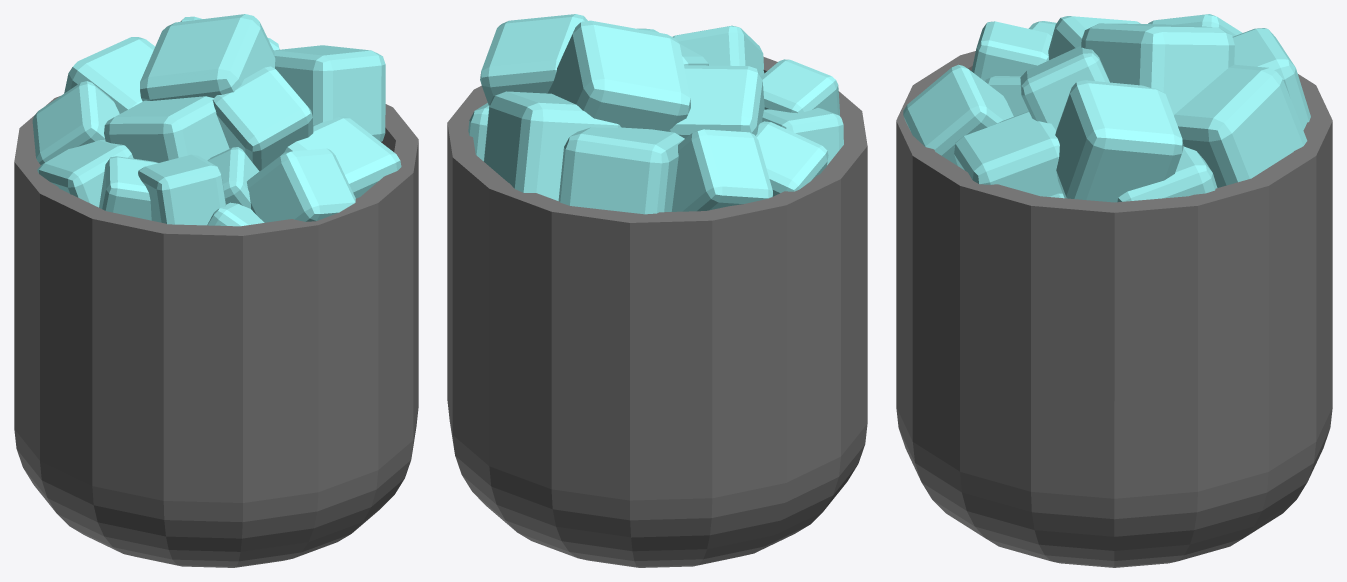
The model's file is IceCup.fbx.
The picture shows the model from 3 angles, left to right: view 1: azimuth 30°, elevation 25°; view 2: azimuth 150°, elevation 25°; view 3: azimuth 270°, elevation 25°; orthographic projection. The views are drawn at different scales.
Visible parts, largest first — view 1: iceCup, Ice; view 2: iceCup, Ice; view 3: iceCup, Ice.
Part boxes in pixels (x1,y1,x2,y2): iceCup: [14, 96, 418, 567]; Ice: [32, 14, 401, 226]; iceCup: [447, 56, 867, 567]; Ice: [468, 14, 843, 214]; iceCup: [896, 51, 1332, 567]; Ice: [903, 14, 1310, 202].
Size of the model in its own units: 64.99 by 84.09 by 64.99.
